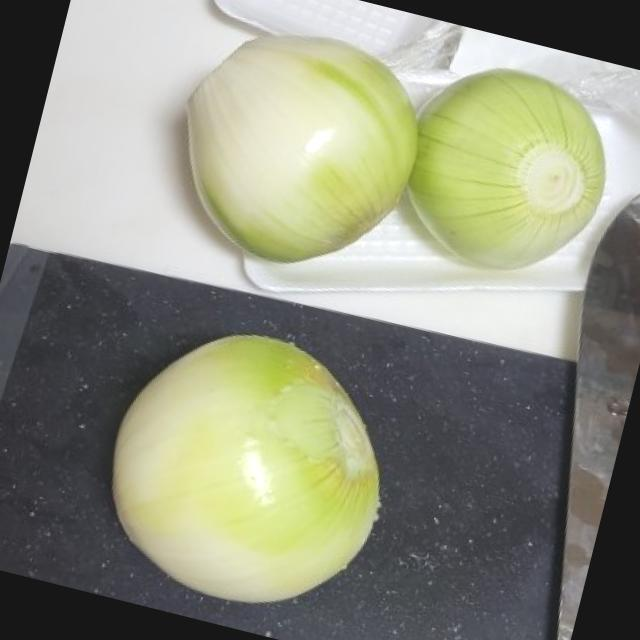onion: (67, 290, 449, 640), (137, 0, 442, 289), (400, 56, 628, 292)
